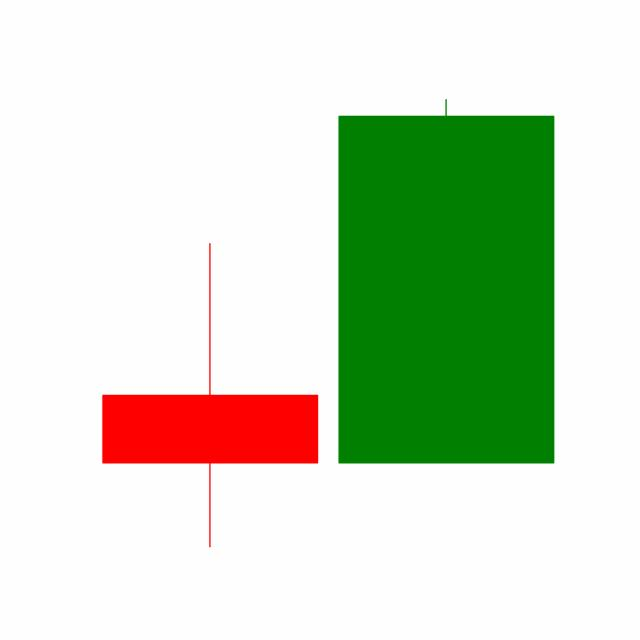Marubozu: (327, 95, 565, 467)
